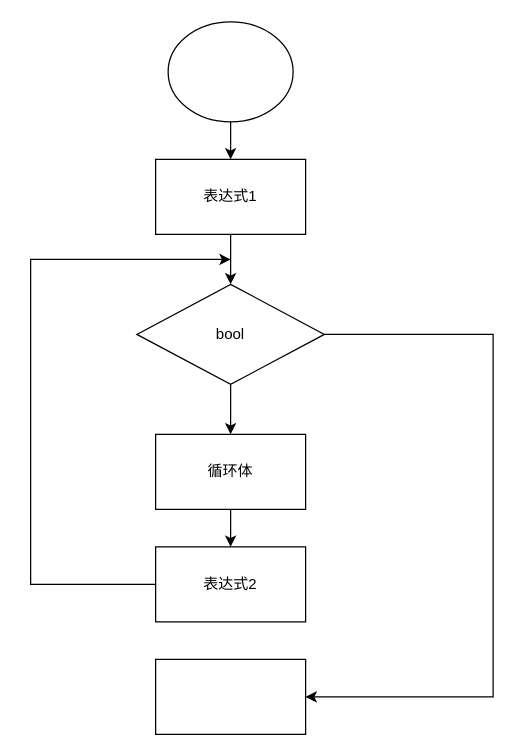
Image size: 525x756. Some labels were removed from this diagram. The shapes that lost their labels are listed below. From the top down, each one's box as (x1, y1, x2, y2) in pixels, then its label:
(167, 21, 293, 122): start
(154, 658, 306, 734): 其余代码
